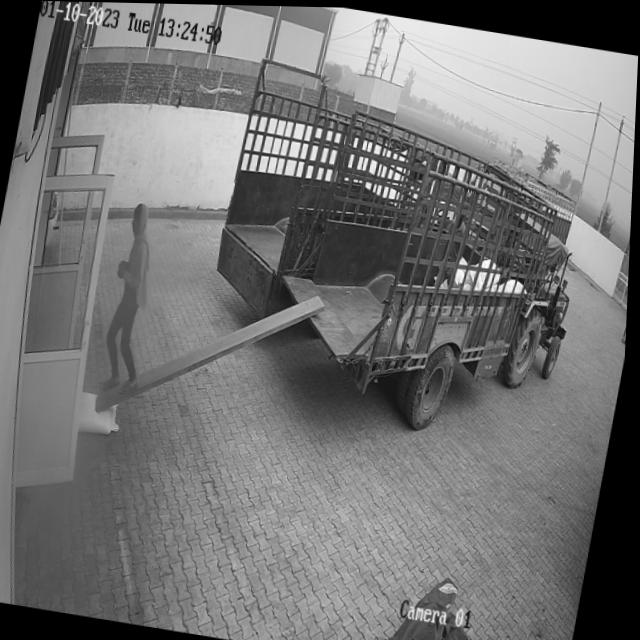sack: (80, 391, 128, 437)
